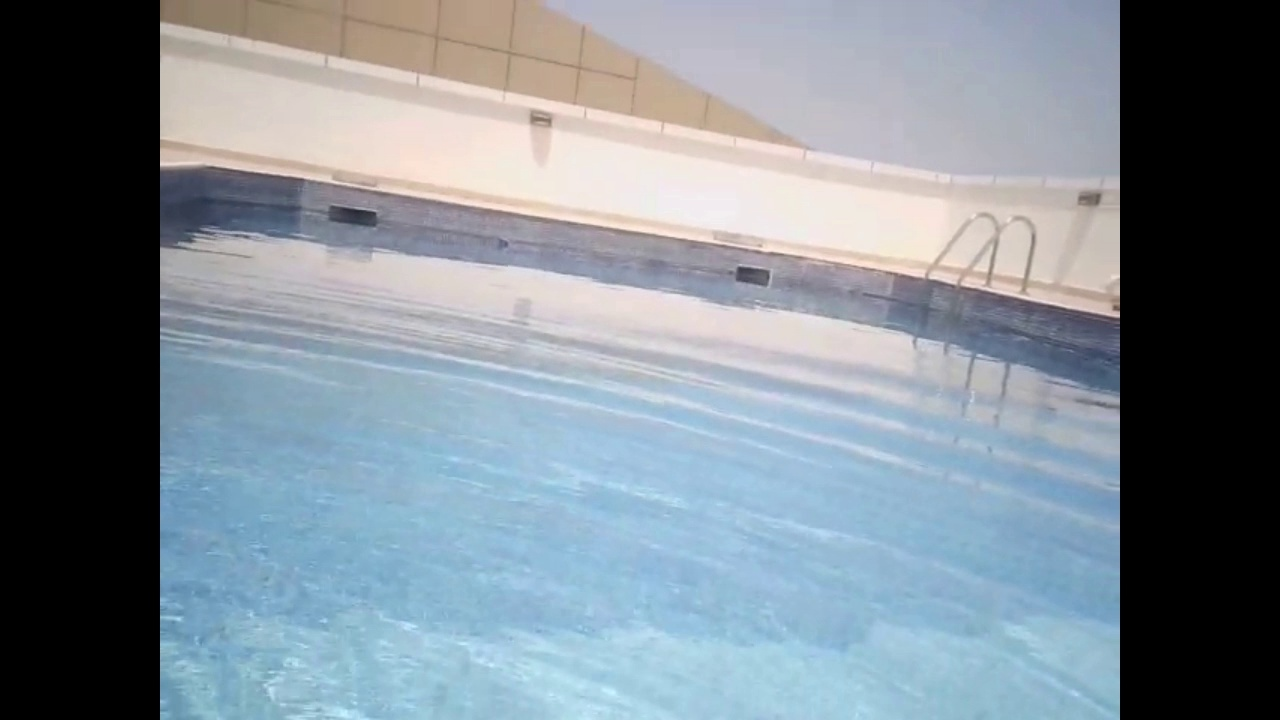debris: (494, 235, 510, 251)
